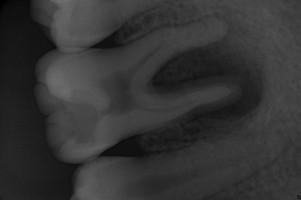Dental Caries: (149, 37, 263, 123)
